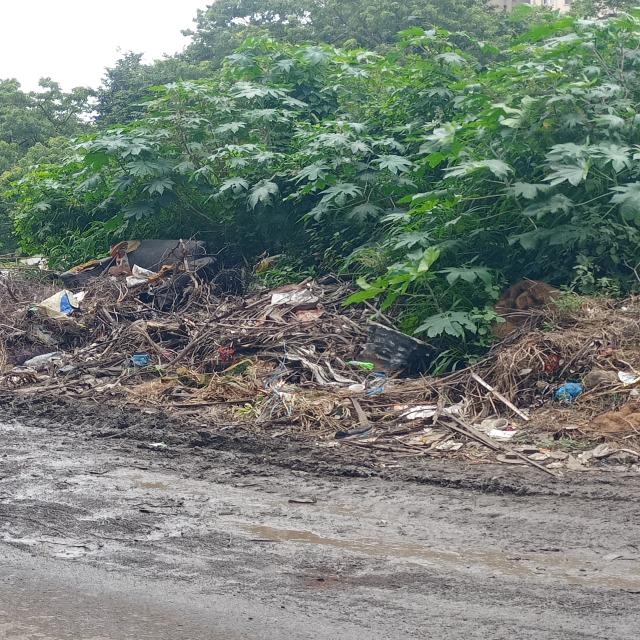garbage: (4, 257, 640, 466)
